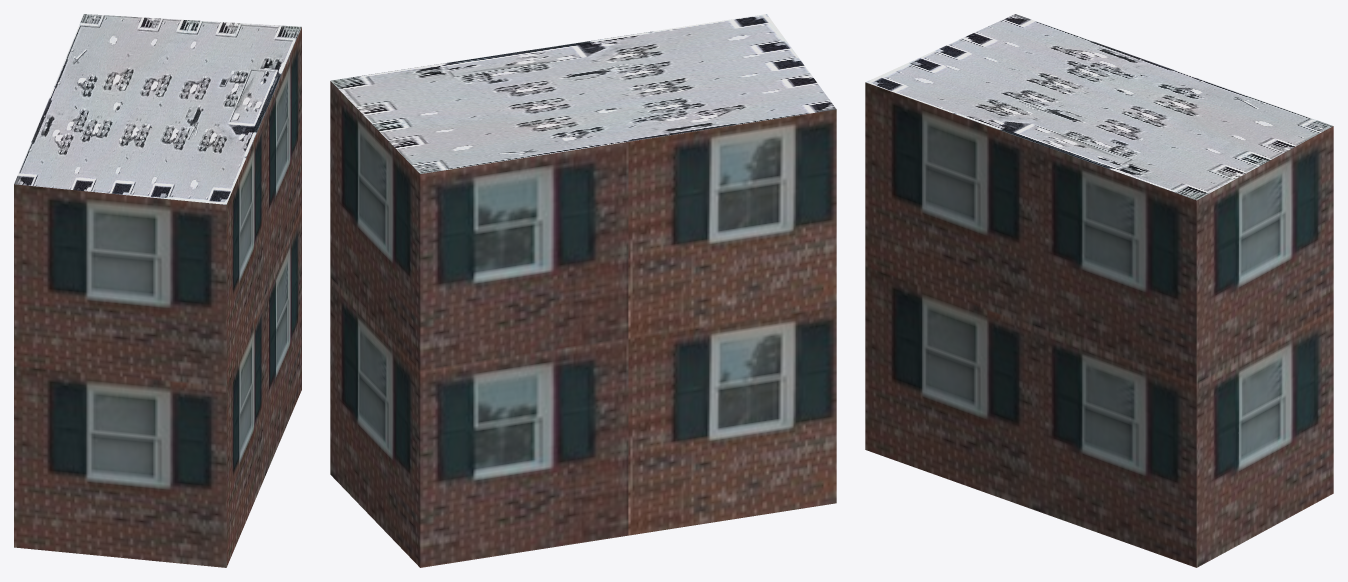
The model's file is ResTex__2290.fbx.
The picture shows the model from 3 angles, left to right: view 1: azimuth 30°, elevation 25°; view 2: azimuth 150°, elevation 25°; view 3: azimuth 270°, elevation 25°; orthographic projection. The views are drawn at different scales.
Parts seen in each view (by area): view 1: CityEngineMaterial_14_m, CityEngineMaterial_8_m; view 2: CityEngineMaterial_14_m, CityEngineMaterial_8_m; view 3: CityEngineMaterial_14_m, CityEngineMaterial_8_m.
Part boxes in pixels (left/top/right/bottom): CityEngineMaterial_14_m: left=14, top=27, right=301, bottom=567; CityEngineMaterial_8_m: left=14, top=14, right=301, bottom=204; CityEngineMaterial_14_m: left=330, top=81, right=836, bottom=567; CityEngineMaterial_8_m: left=330, top=14, right=836, bottom=173; CityEngineMaterial_14_m: left=865, top=82, right=1333, bottom=567; CityEngineMaterial_8_m: left=866, top=14, right=1332, bottom=200.
Bounding box in the file's own units: 6.53 × 6 × 6.92.
Materials: 2 (2 with a texture image).
